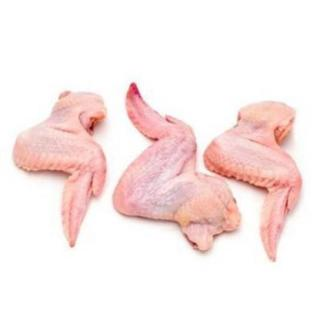Ayam: (113, 84, 243, 254), (206, 102, 300, 262), (15, 92, 108, 249)
